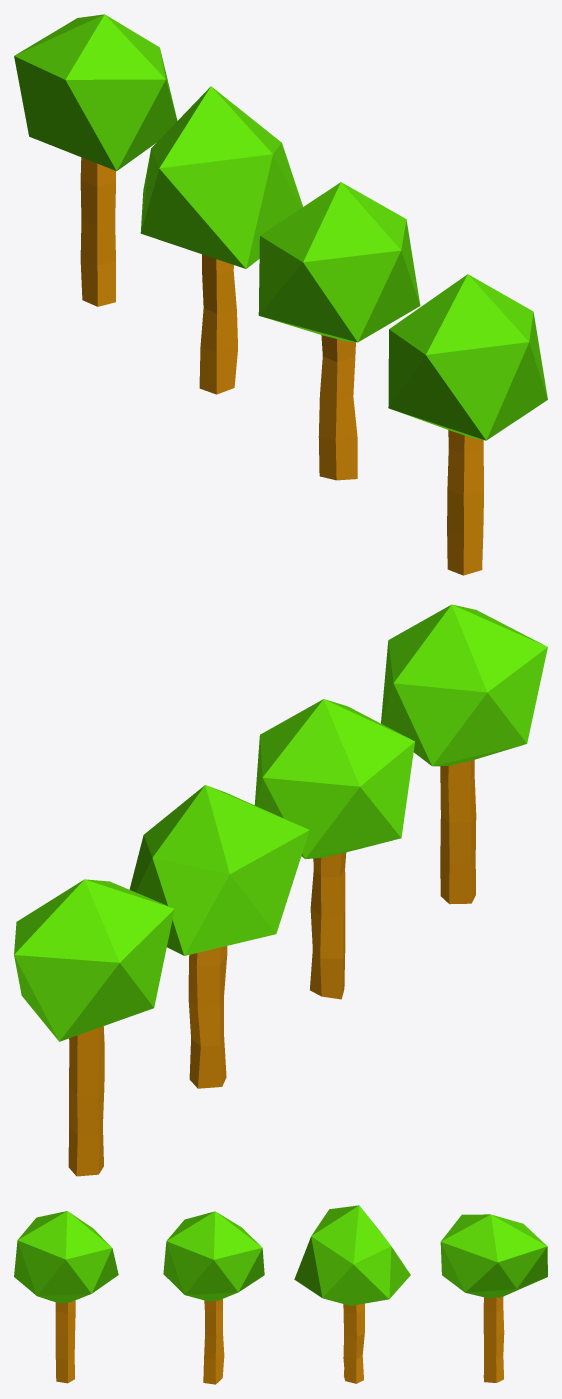
The model's file is trees.glb.
3 renders of one model, top to bottom at view 1: azimuth 30°, elevation 25°; view 2: azimuth 150°, elevation 25°; view 3: azimuth 270°, elevation 25°, orthographic. The views are drawn at different scales.
Parts seen in each view (by area): view 1: Icosphere.001, Icosphere, Icosphere.002, Icosphere.003, Tree, Tree.001, Tree.003, Tree.002; view 2: Icosphere.002, Icosphere.001, Icosphere.003, Icosphere, Tree.003, Tree.001, Tree.002, Tree; view 3: Icosphere.002, Icosphere.003, Icosphere.001, Icosphere, Tree.003, Tree.002, Tree.001, Tree.
Boxes of the visible parts, x1,y1,x2,y2 form: Icosphere.001: [388, 274, 547, 440]; Icosphere: [258, 182, 420, 342]; Icosphere.002: [140, 86, 302, 268]; Icosphere.003: [14, 14, 177, 171]; Tree: [318, 335, 357, 480]; Tree.001: [447, 430, 483, 575]; Tree.003: [80, 157, 115, 306]; Tree.002: [199, 254, 237, 394]; Icosphere.002: [129, 785, 309, 955]; Icosphere.001: [381, 604, 547, 766]; Icosphere.003: [14, 879, 174, 1041]; Icosphere: [254, 699, 414, 859]; Tree.003: [68, 1026, 104, 1176]; Tree.001: [440, 760, 476, 904]; Tree.002: [188, 946, 227, 1088]; Tree: [310, 852, 346, 999]; Icosphere.002: [294, 1205, 410, 1305]; Icosphere.003: [440, 1214, 547, 1298]; Icosphere.001: [14, 1211, 118, 1303]; Icosphere: [163, 1211, 264, 1301]; Tree.003: [483, 1296, 504, 1382]; Tree.002: [343, 1303, 364, 1383]; Tree.001: [55, 1300, 75, 1383]; Tree: [203, 1299, 224, 1384].
Bounding box in the file's own units: 1.21 × 2.33 × 6.48.
